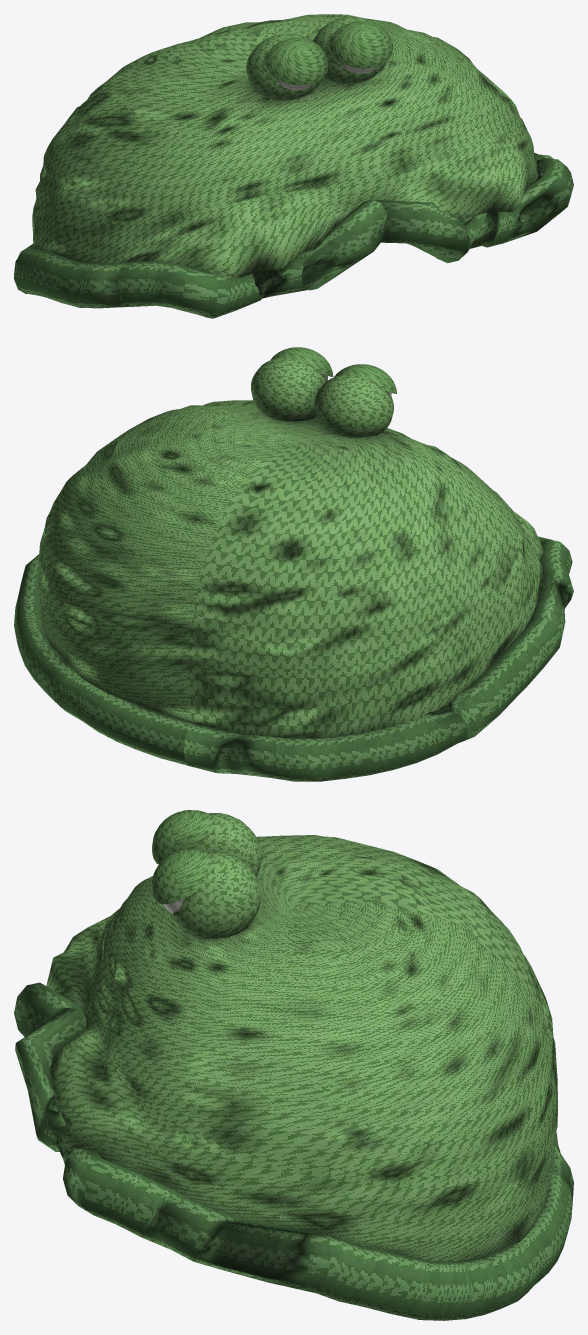
The model's file is froghat.glb.
3 renders of one model, top to bottom at view 1: azimuth 30°, elevation 25°; view 2: azimuth 150°, elevation 25°; view 3: azimuth 270°, elevation 25°, orthographic. The views are drawn at different scales.
Visible parts, largest first — view 1: froghat_cap, froghat_rib, froghat_lidr, froghat_lidl, froghat_eyel, froghat_eyer; view 2: froghat_cap, froghat_rib, froghat_eyel, froghat_eyer, froghat_lidr, froghat_lidl; view 3: froghat_cap, froghat_rib, froghat_eyer, froghat_lidr, froghat_eyel, froghat_lidl.
Boxes of the visible parts, x1,y1,x2,y2 form: froghat_cap: (32,14,537,277); froghat_rib: (14,152,573,318); froghat_lidr: (329,21,393,68); froghat_lidl: (265,38,329,85); froghat_eyel: (246,33,323,100); froghat_eyer: (313,17,387,84); froghat_cap: (37,400,543,738); froghat_rib: (14,536,573,781); froghat_eyel: (314,374,393,437); froghat_eyer: (251,357,327,421); froghat_lidr: (270,347,333,376); froghat_lidl: (334,364,396,393); froghat_cap: (46,835,557,1261); froghat_rib: (14,982,573,1320); froghat_eyer: (172,851,260,938); froghat_lidr: (151,849,210,904); froghat_eyel: (201,813,261,876); froghat_lidl: (152,810,210,864).
Size of the model in its own units: 32.72 by 19.4 by 25.01.
1 material, 1 textured.
